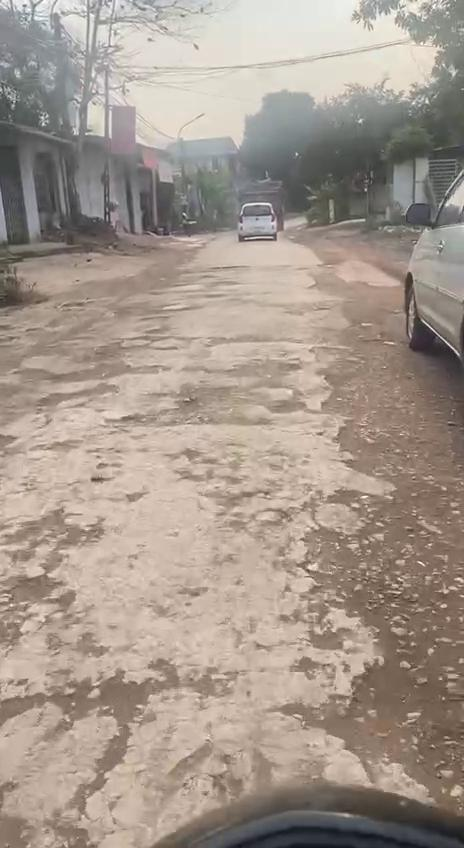pothole: (0, 661, 206, 822), (289, 651, 464, 824), (284, 483, 408, 654), (0, 504, 109, 648), (107, 376, 307, 430)
